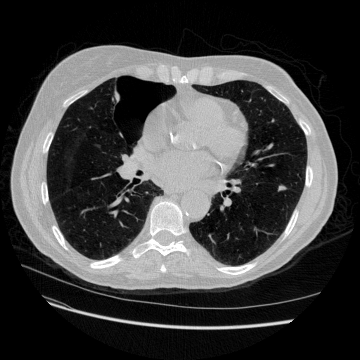nodule: (277, 184, 285, 192)
